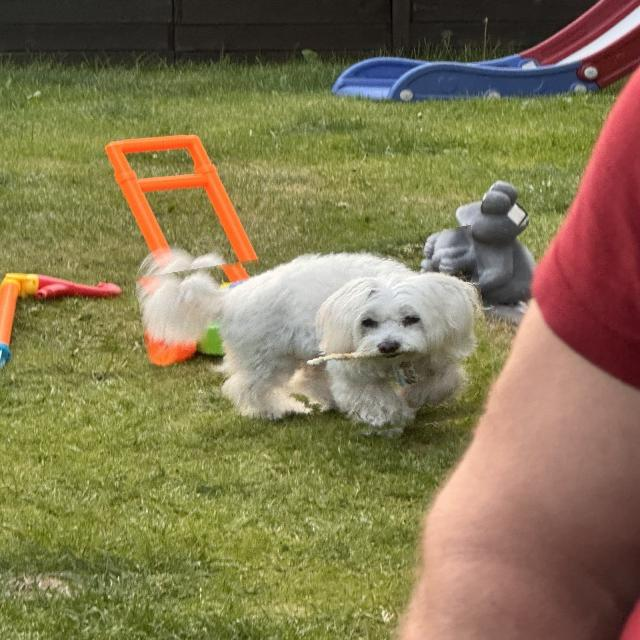maltese: (142, 238, 494, 452)
